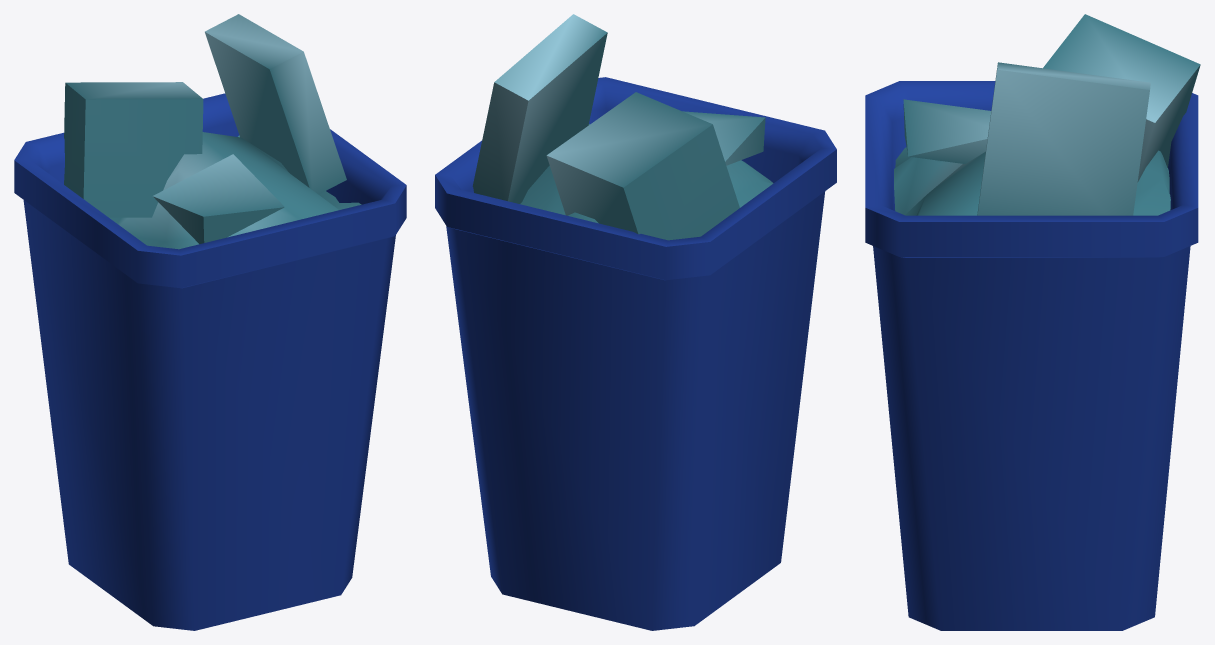
The model's file is SM_Bin_Blue.glb.
3 renders of one model, left to right at view 1: azimuth 30°, elevation 25°; view 2: azimuth 150°, elevation 25°; view 3: azimuth 270°, elevation 25°, orthographic. The views are drawn at different scales.
Visible parts, largest first — view 1: SM_Bin_Blue, SM_Trash_Blue; view 2: SM_Bin_Blue, SM_Trash_Blue; view 3: SM_Bin_Blue, SM_Trash_Blue.
Part boxes in pixels (bbox=[...]): SM_Bin_Blue: bbox=[14, 93, 406, 630]; SM_Trash_Blue: bbox=[64, 14, 361, 249]; SM_Bin_Blue: bbox=[435, 77, 836, 630]; SM_Trash_Blue: bbox=[472, 14, 773, 240]; SM_Bin_Blue: bbox=[865, 81, 1198, 630]; SM_Trash_Blue: bbox=[894, 14, 1200, 215].
Size of the model in its own units: 0.7113 by 1.3 by 0.7164.
